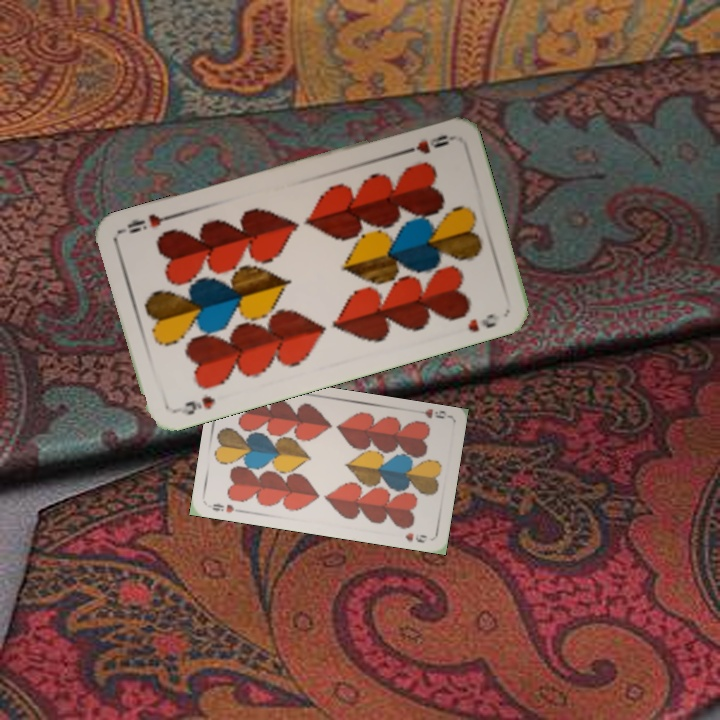H9: (397, 131, 455, 158), (170, 391, 218, 418), (208, 499, 245, 515), (420, 405, 448, 421)
